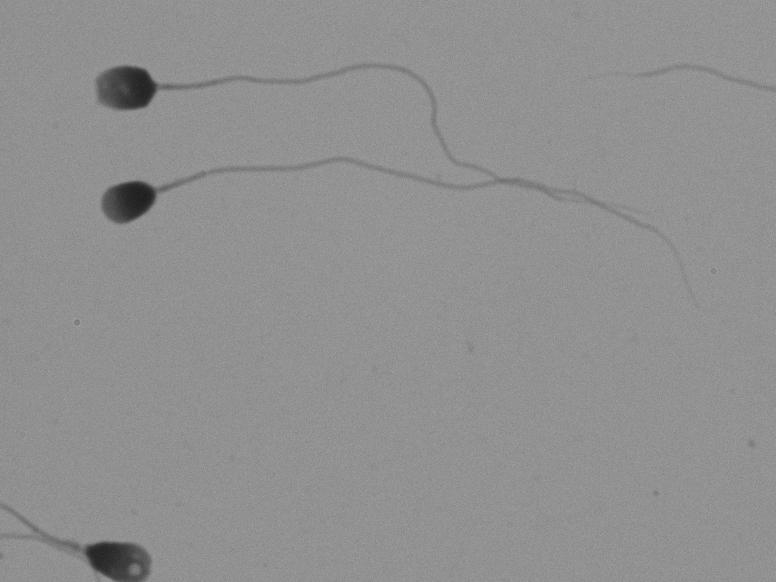Abnormal: (78, 18, 432, 140), (22, 470, 205, 580)
Normal: (58, 144, 753, 305)
